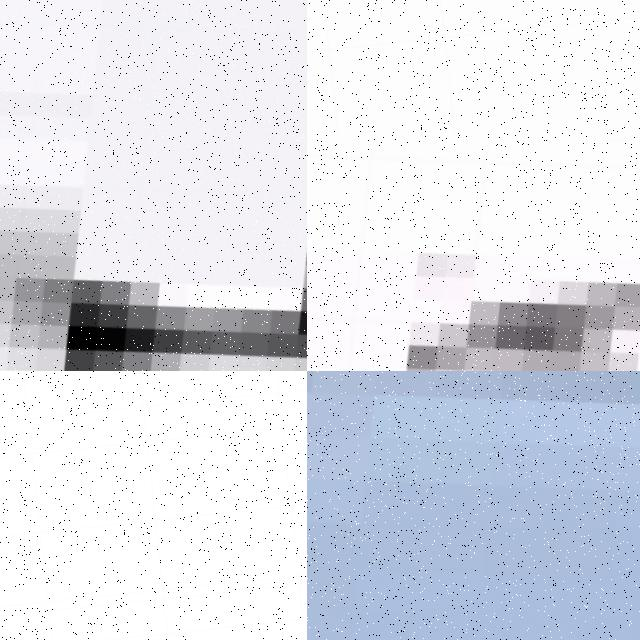0: (0, 0, 307, 371), (307, 102, 640, 371)
drone: (307, 371, 640, 640)
